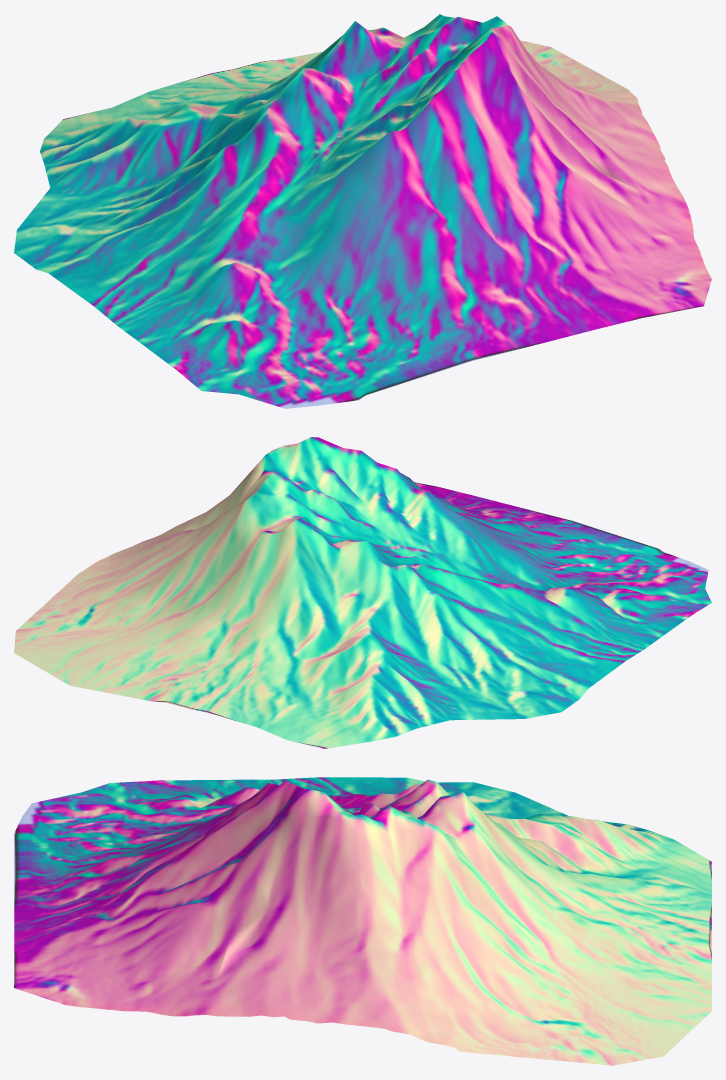
Rendered from Mountain2.fbx.
3 renders of one model, top to bottom at view 1: azimuth 30°, elevation 25°; view 2: azimuth 150°, elevation 25°; view 3: azimuth 270°, elevation 25°, orthographic. The views are drawn at different scales.
Visible parts, largest first — view 1: Mountain2; view 2: Mountain2; view 3: Mountain2.
Boxes of the visible parts, x1,y1,x2,y2 form: Mountain2: (14, 14, 711, 408); Mountain2: (14, 437, 711, 748); Mountain2: (14, 777, 711, 1065).
Bounding box in the file's own units: 12296 × 3597 × 12578.
